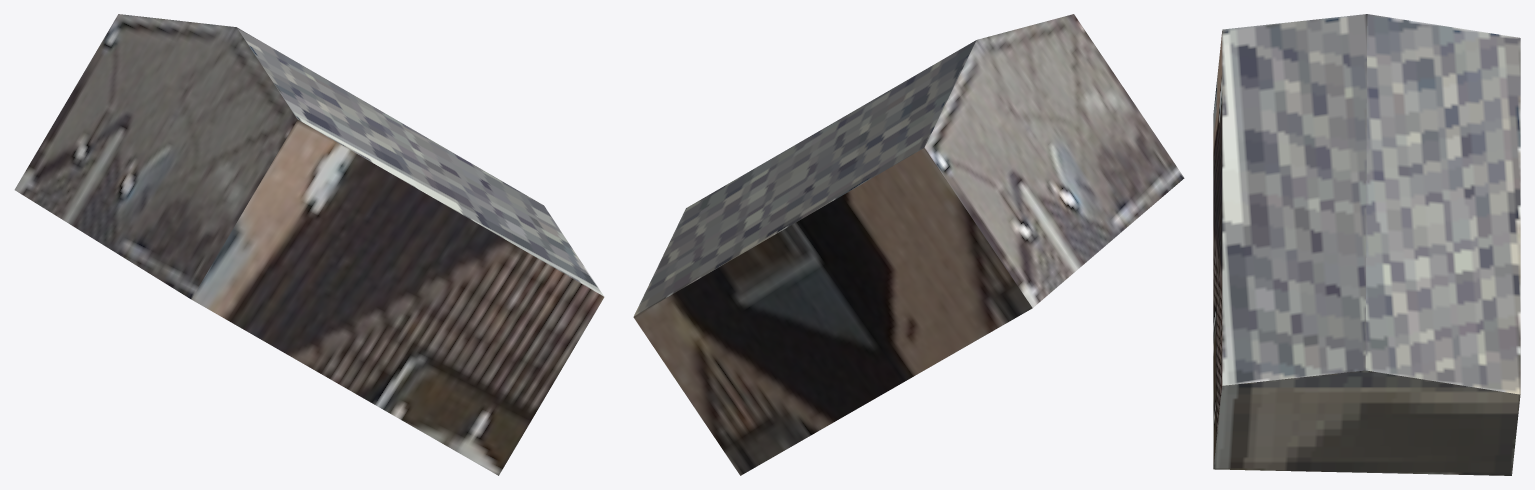
3 views of the same model, side by side, from view 1: azimuth 30°, elevation 25°; view 2: azimuth 150°, elevation 25°; view 3: azimuth 270°, elevation 25° (orthographic). The views are drawn at different scales.
Parts seen in each view (by area): view 1: BAG_0599100010060435; view 2: BAG_0599100010060435; view 3: BAG_0599100010060435.
Part boxes in pixels (bbox=[...]): BAG_0599100010060435: bbox=[14, 14, 604, 475]; BAG_0599100010060435: bbox=[633, 14, 1184, 475]; BAG_0599100010060435: bbox=[1213, 14, 1520, 475].
Size of the model in its own units: 5.78 by 5.44 by 3.88.
Materials: 2 (2 with a texture image).
